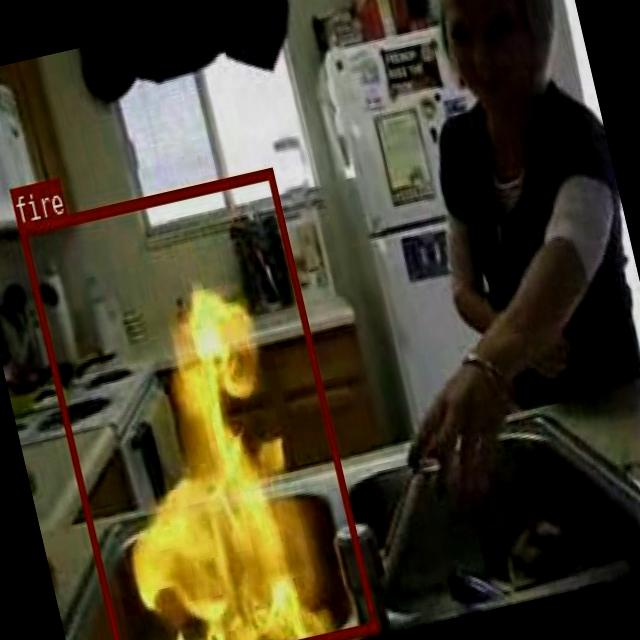fire: (16, 166, 377, 640)
